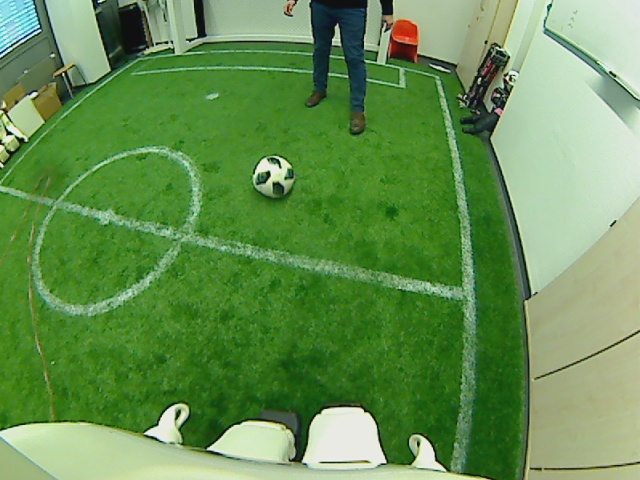ball: (251, 153, 295, 199)
